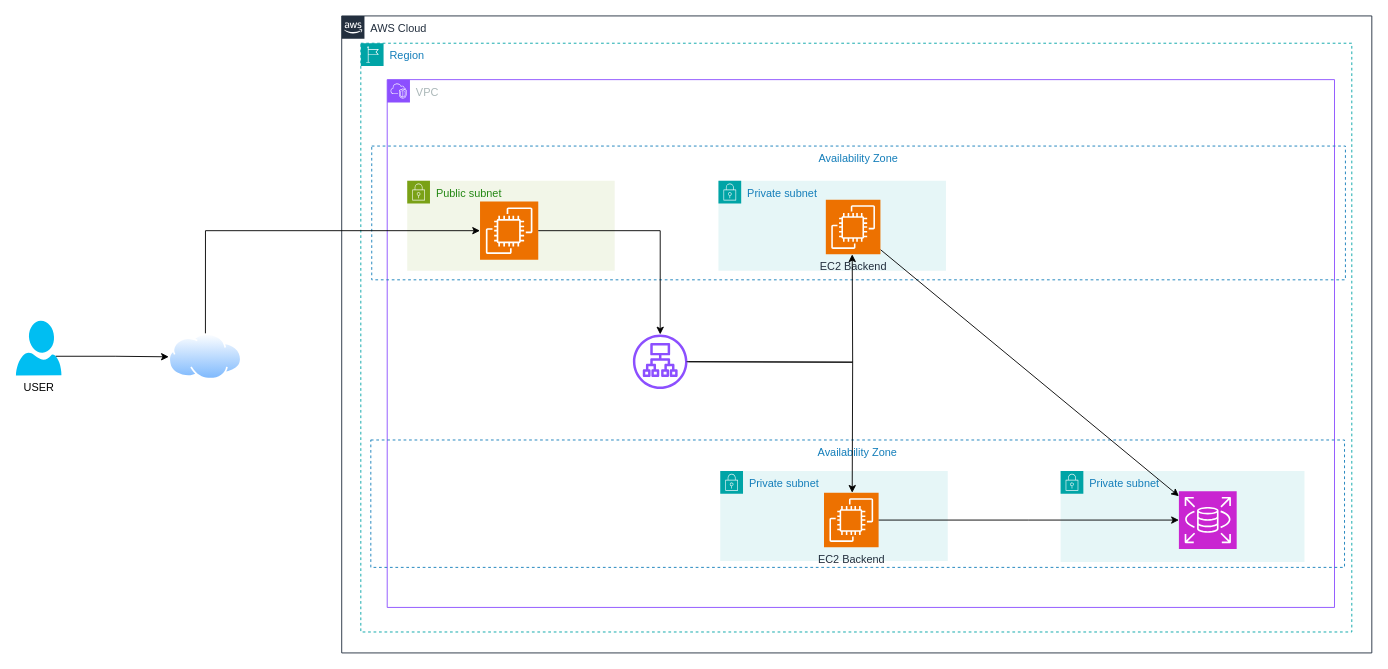
This 1388x669 diagram has some shape labels left out. Each missing label, with the centre of its shape:
"Application load balancer" belongs at (x=659, y=361).
"EC2 Frontend" belongs at (x=508, y=230).
"Internet" belongs at (x=205, y=356).
"RDS Postgres Database" belongs at (x=1207, y=519).
